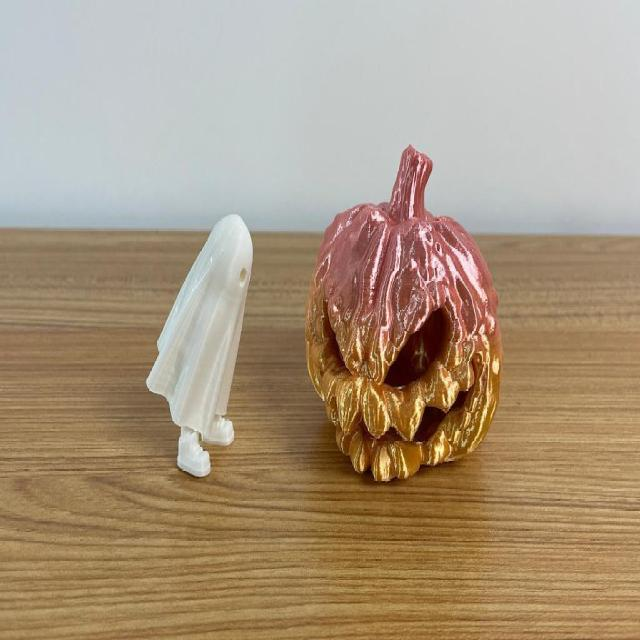Without deffect: (158, 138, 542, 494)
